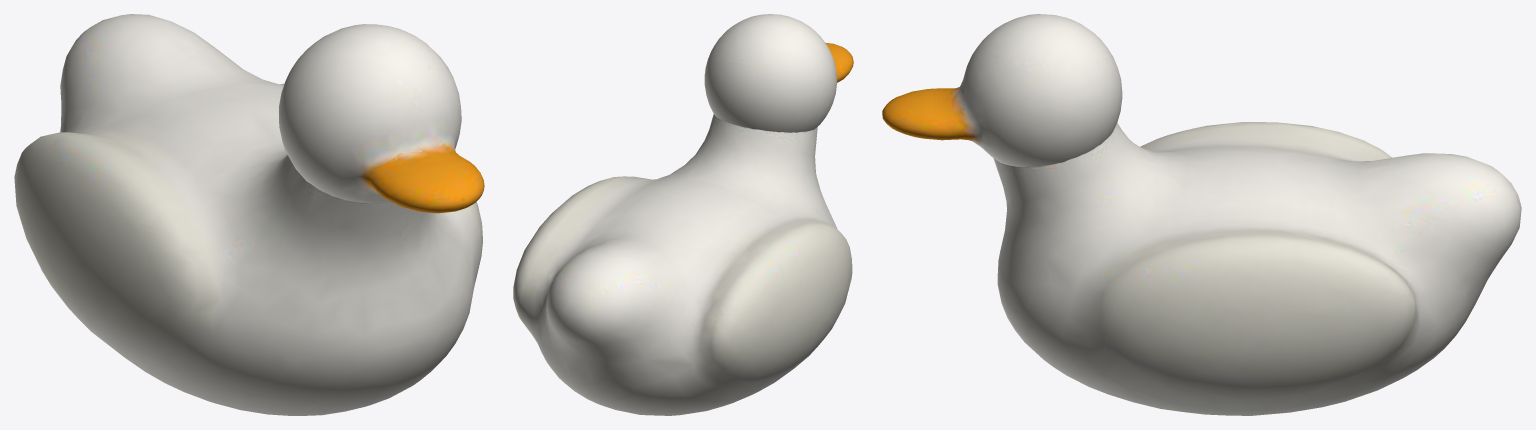
The model's file is animal_call_duck.glb.
The picture shows the model from 3 angles, left to right: view 1: azimuth 30°, elevation 25°; view 2: azimuth 150°, elevation 25°; view 3: azimuth 270°, elevation 25°; orthographic projection. The views are drawn at different scales.
Visible parts, largest first — view 1: animal_call_duck, head; view 2: animal_call_duck, head; view 3: animal_call_duck, head.
Part boxes in pixels (x1,y1,x2,y2): animal_call_duck: (14,14,482,415); head: (279,24,484,213); animal_call_duck: (513,114,852,415); head: (704,14,853,132); animal_call_duck: (993,122,1521,415); head: (882,14,1122,167).
Size of the model in its own units: 0.1669 by 0.19 by 0.2945.
1 material, 1 textured.
